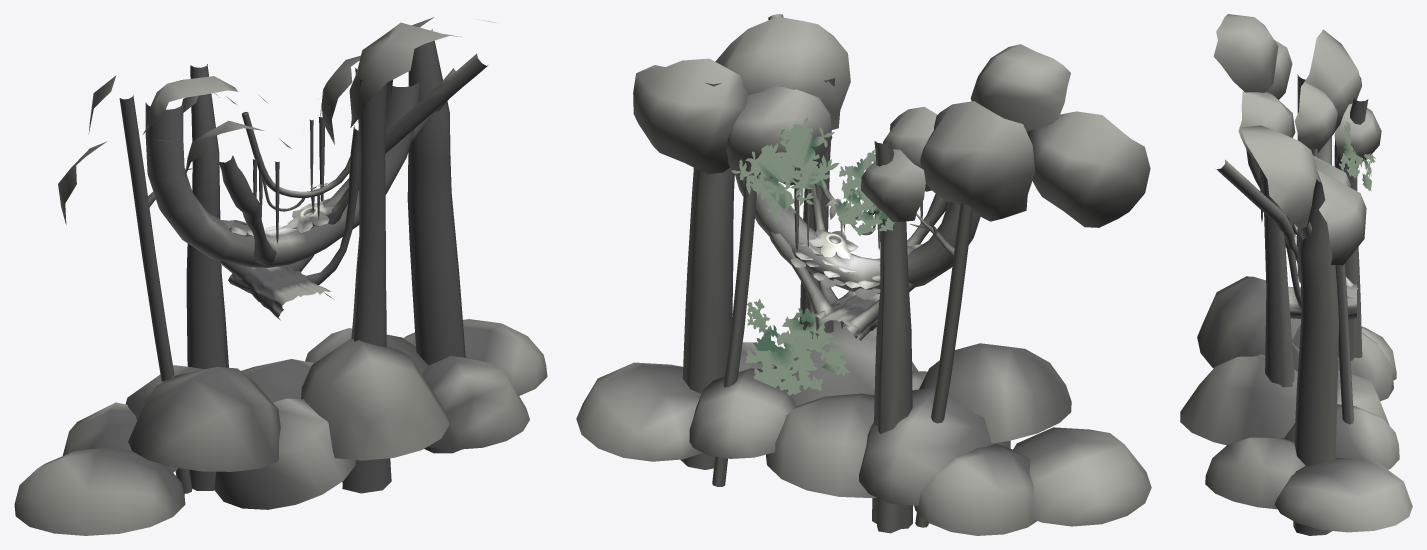
Rendered from Jungle_Canopy_Slide_A.glb.
3 renders of one model, left to right at view 1: azimuth 30°, elevation 25°; view 2: azimuth 150°, elevation 25°; view 3: azimuth 270°, elevation 25°, orthographic. The views are drawn at different scales.
Parts seen in each view (by area): view 1: Jungle_Canopy_Slide_A, Jungle_Canopy_Slide_A_Obstacle; view 2: Jungle_Canopy_Slide_A, Jungle_Canopy_Slide_A_Obstacle; view 3: Jungle_Canopy_Slide_A, Jungle_Canopy_Slide_A_Obstacle.
Boxes of the visible parts, x1,y1,x2,y2 form: Jungle_Canopy_Slide_A: (14, 17, 547, 535); Jungle_Canopy_Slide_A_Obstacle: (145, 68, 455, 280); Jungle_Canopy_Slide_A: (576, 14, 1151, 535); Jungle_Canopy_Slide_A_Obstacle: (733, 169, 980, 338); Jungle_Canopy_Slide_A: (1180, 14, 1412, 535); Jungle_Canopy_Slide_A_Obstacle: (1294, 74, 1357, 298).
Size of what is drawn, in the model's own units: 37.48 by 30.43 by 16.57.
